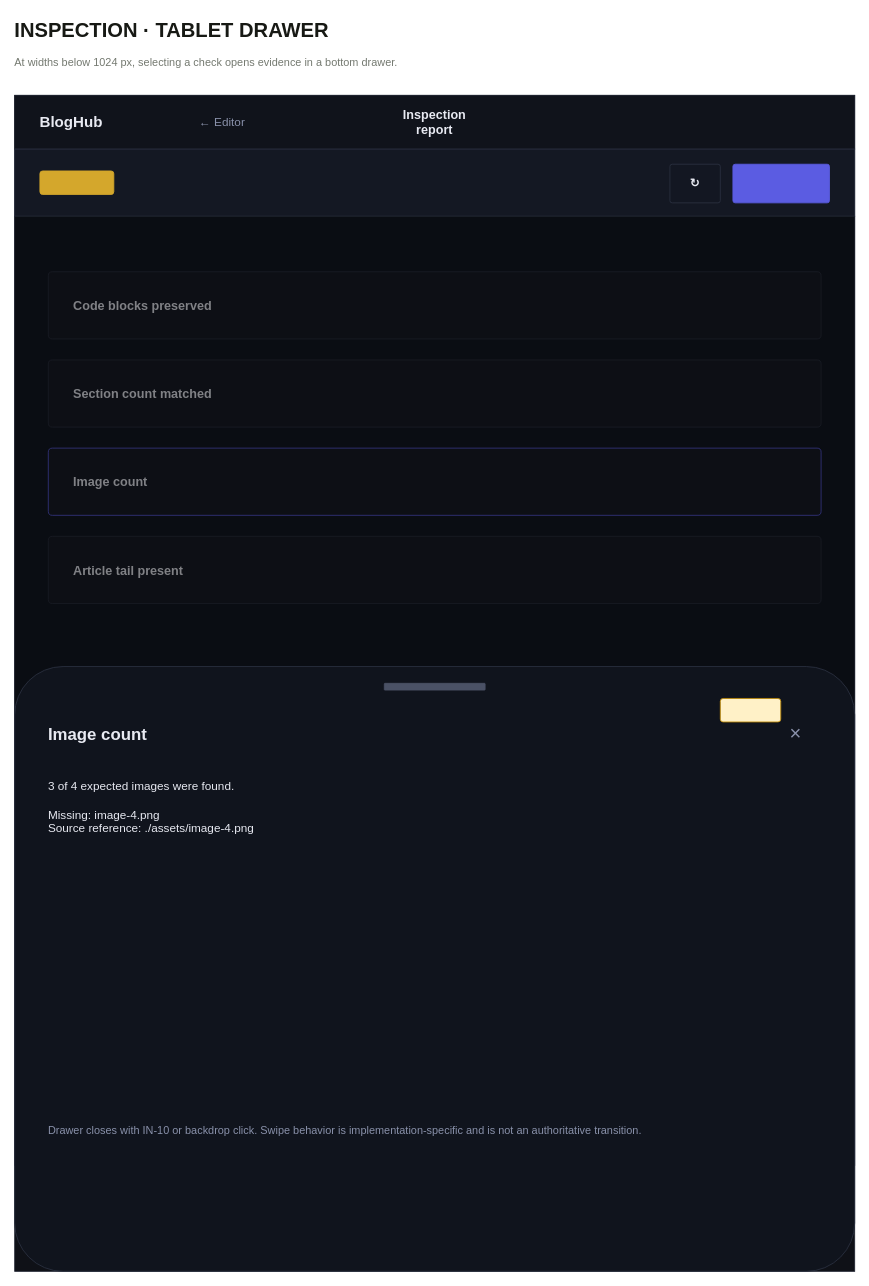
Some shapes in this 869 by 1286 pixel diagram are drawn without their labels. The box of each missing label's shape, as (x1, y1, x2, y2) in pixels:
IN-10: (719, 698, 781, 722)
Proceed: (732, 163, 830, 203)
WARN: (39, 170, 114, 194)
